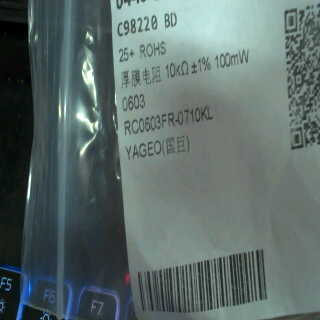10kR: (164, 57, 192, 77)
